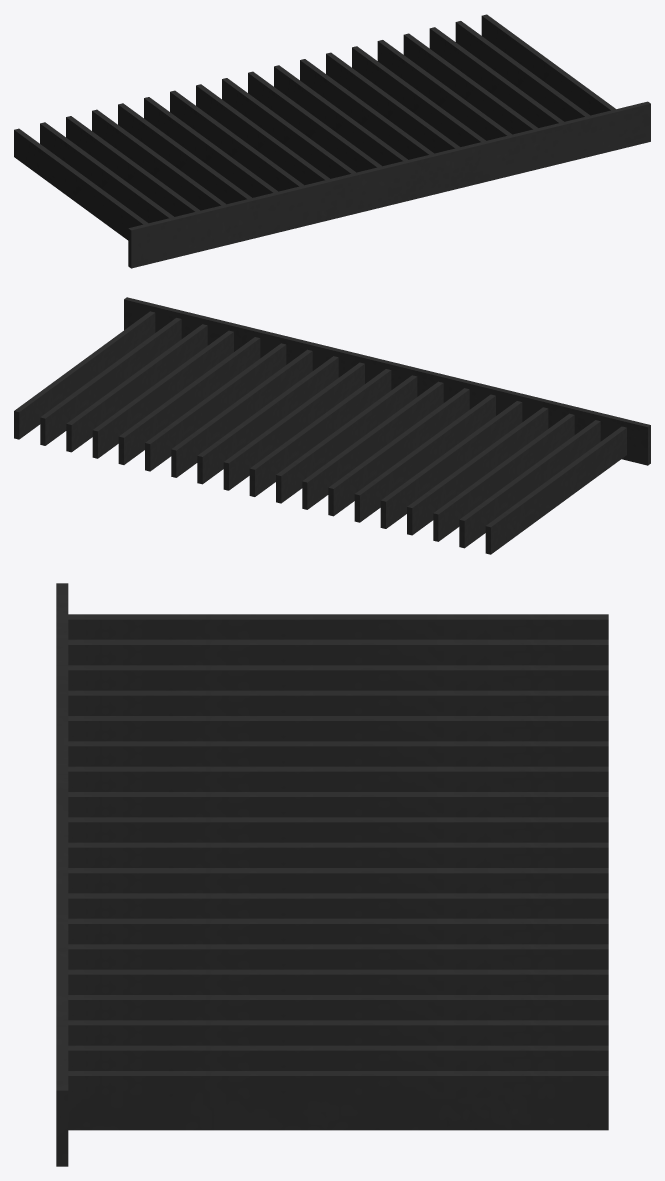
File: house_railing.glb
3 views of the same model, one above another, from view 1: azimuth 30°, elevation 25°; view 2: azimuth 150°, elevation 25°; view 3: azimuth 270°, elevation 25° (orthographic). The views are drawn at different scales.
Visible parts, largest first — view 1: Railing; view 2: Railing; view 3: Railing.
Part boxes in pixels (box(x1,y1,x2,y2)): Railing: box(14, 14, 650, 268); Railing: box(14, 297, 650, 554); Railing: box(56, 583, 608, 1166).
Size of the model in its own units: 200 by 14 by 92.
Materials: 1 (1 with a texture image).
